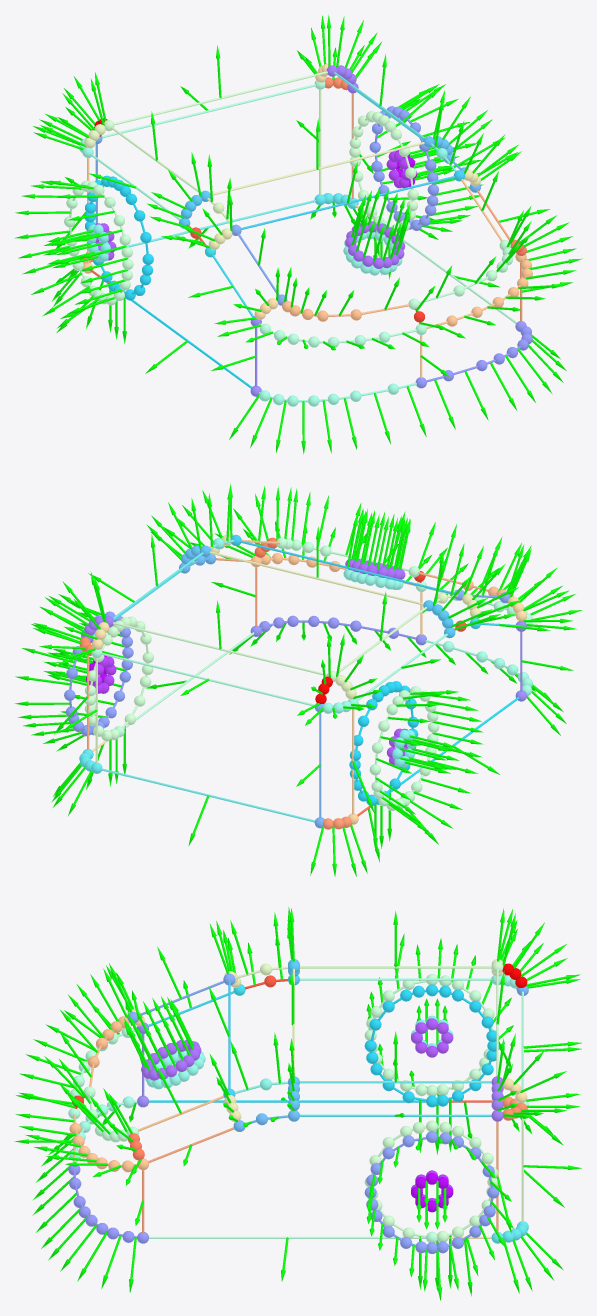
File: onshape_vacuum.gltf
The picture shows the model from 3 angles, top to bottom: view 1: azimuth 30°, elevation 25°; view 2: azimuth 150°, elevation 25°; view 3: azimuth 270°, elevation 25°; orthographic projection. The views are drawn at different scales.
Size of the model in its own units: 0.8155 by 0.4637 by 0.942.
